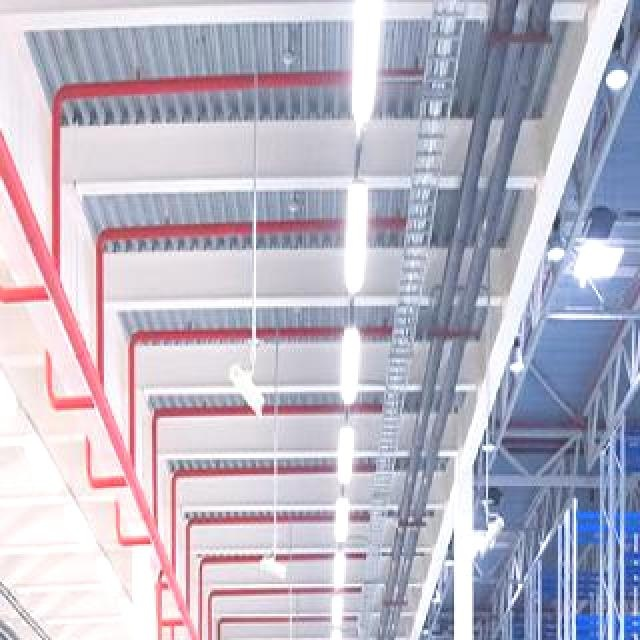fluorescent tube: (333, 165, 395, 295), (340, 0, 391, 133), (326, 318, 386, 404), (329, 424, 375, 500), (324, 483, 351, 541)
